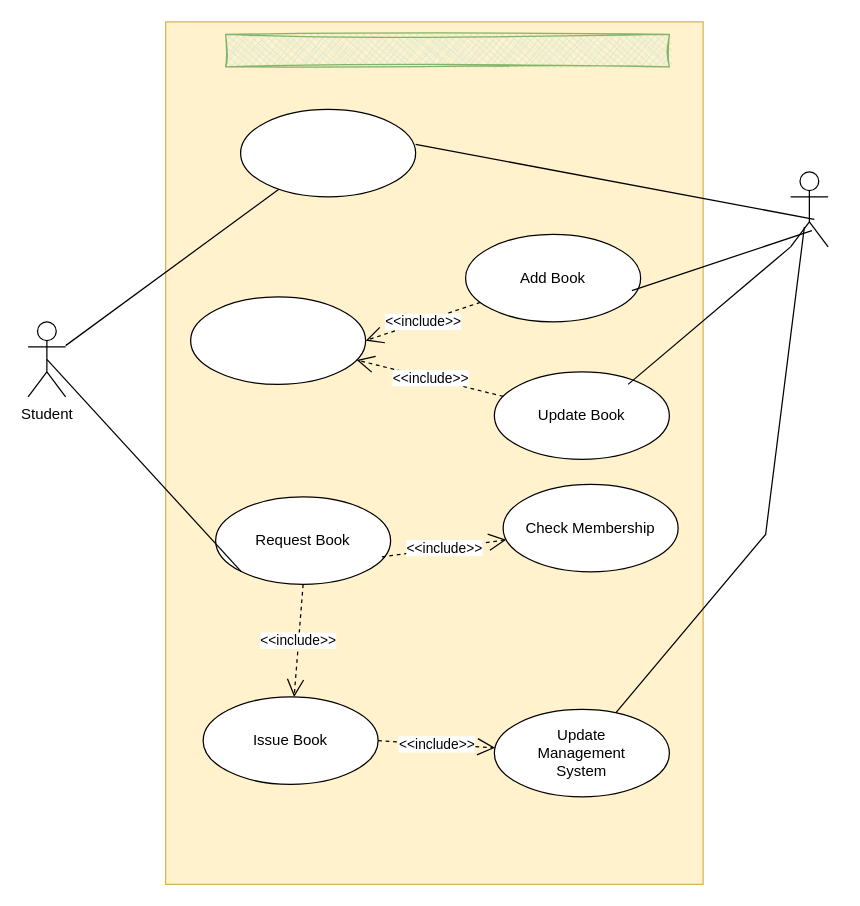
This 860x906 diagram has some shape labels left out. Each missing label, with the box of its shape:
Librarian: (789, 171, 828, 247)
Management System: (189, 296, 366, 384)
Search Book: (239, 108, 416, 197)
Use Case For Library Management: (224, 33, 669, 67)
